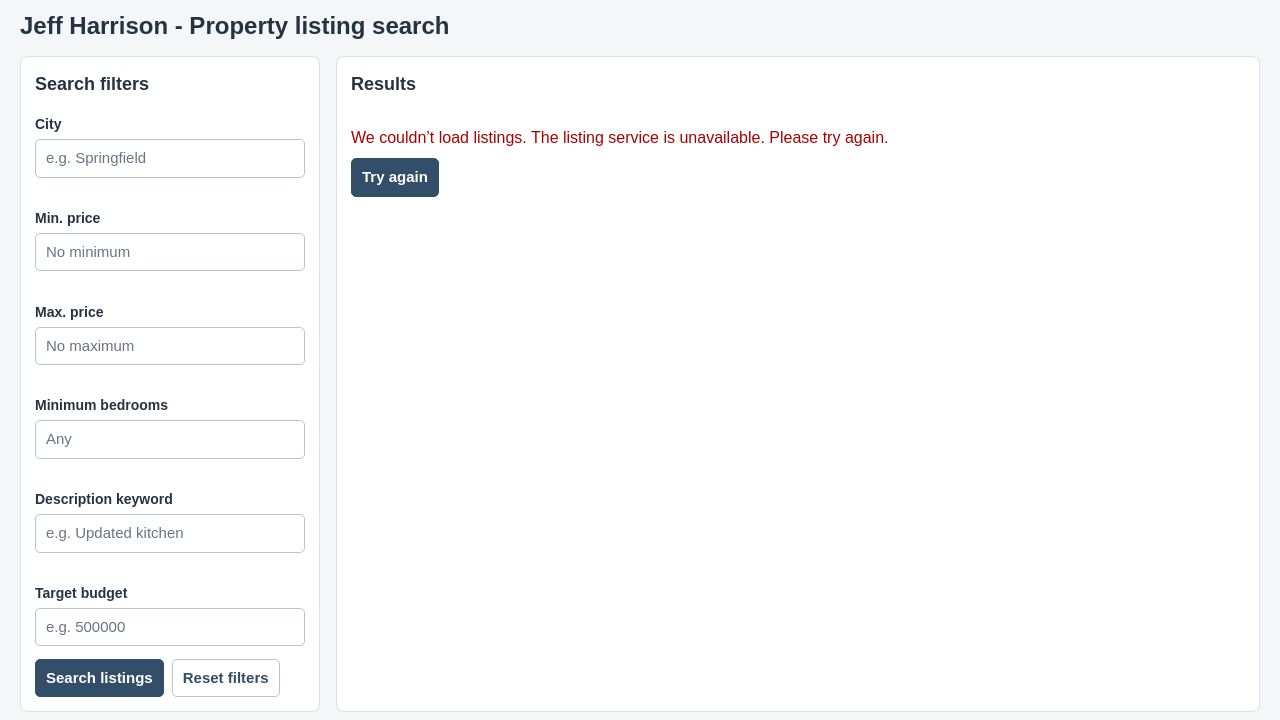
Test: listing search › shows a service error and retries the same search
Expected: the message shows "The listing service is unavailable", [531, 129, 888, 146]
Click the button "Try again": {"x": 395, "y": 177} [351, 158, 439, 196]
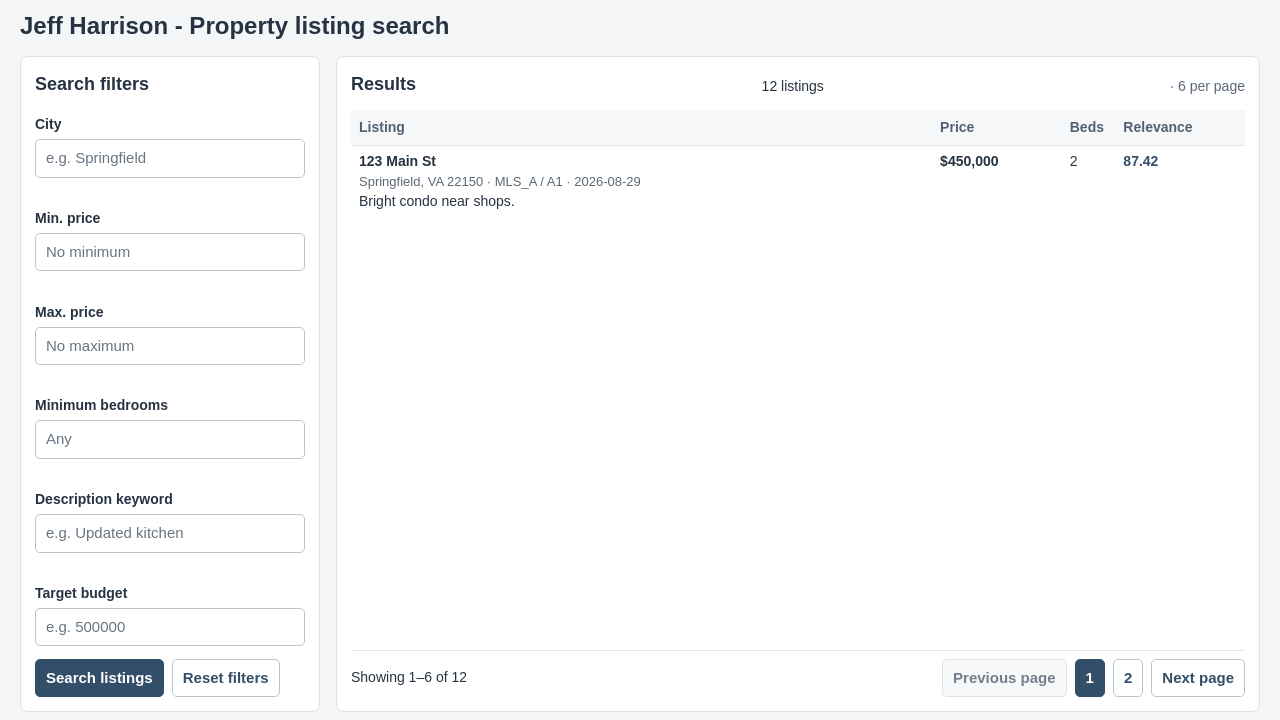
Result: the table named "Listing results" is shown at [351, 110, 1245, 650]
